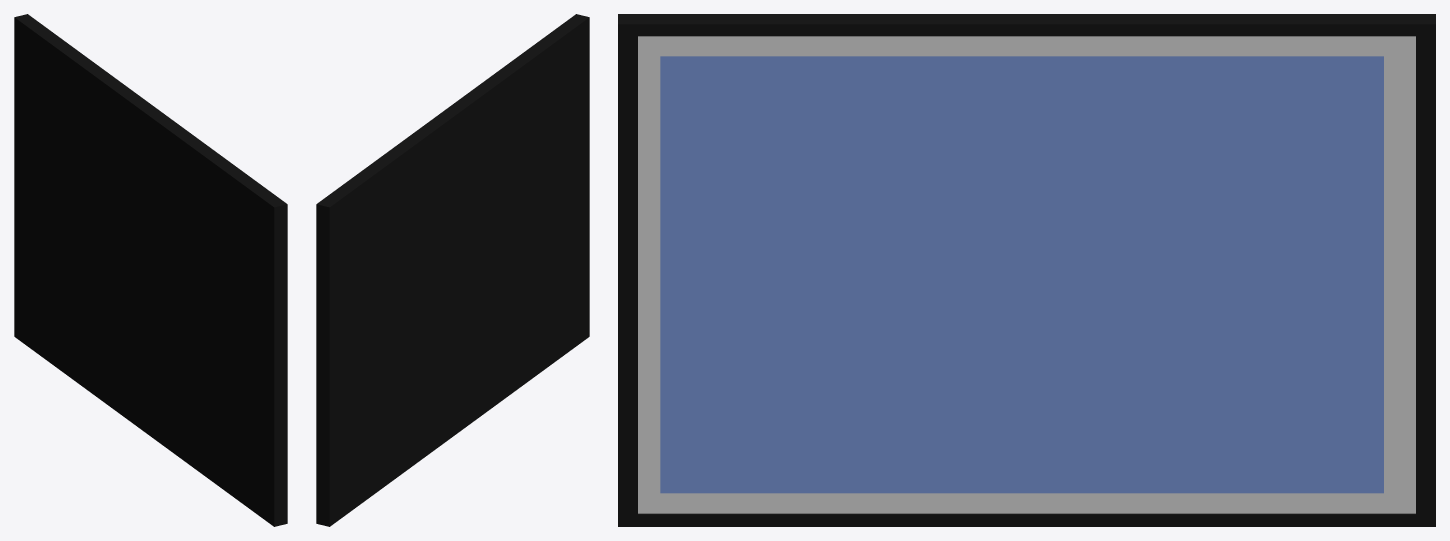
Rendered from ArtWork.glb.
3 renders of one model, left to right at view 1: azimuth 30°, elevation 25°; view 2: azimuth 150°, elevation 25°; view 3: azimuth 270°, elevation 25°, orthographic. The views are drawn at different scales.
Visible parts, largest first — view 1: Cube.002; view 2: Cube.002; view 3: Cube.002.
Part boxes in pixels (x1=…): Cube.002: x1=14, y1=14, x2=287, y2=526; Cube.002: x1=316, y1=14, x2=589, y2=526; Cube.002: x1=618, y1=14, x2=1435, y2=526.
Size of the model in its own units: 0.05 by 1.15 by 1.7.
